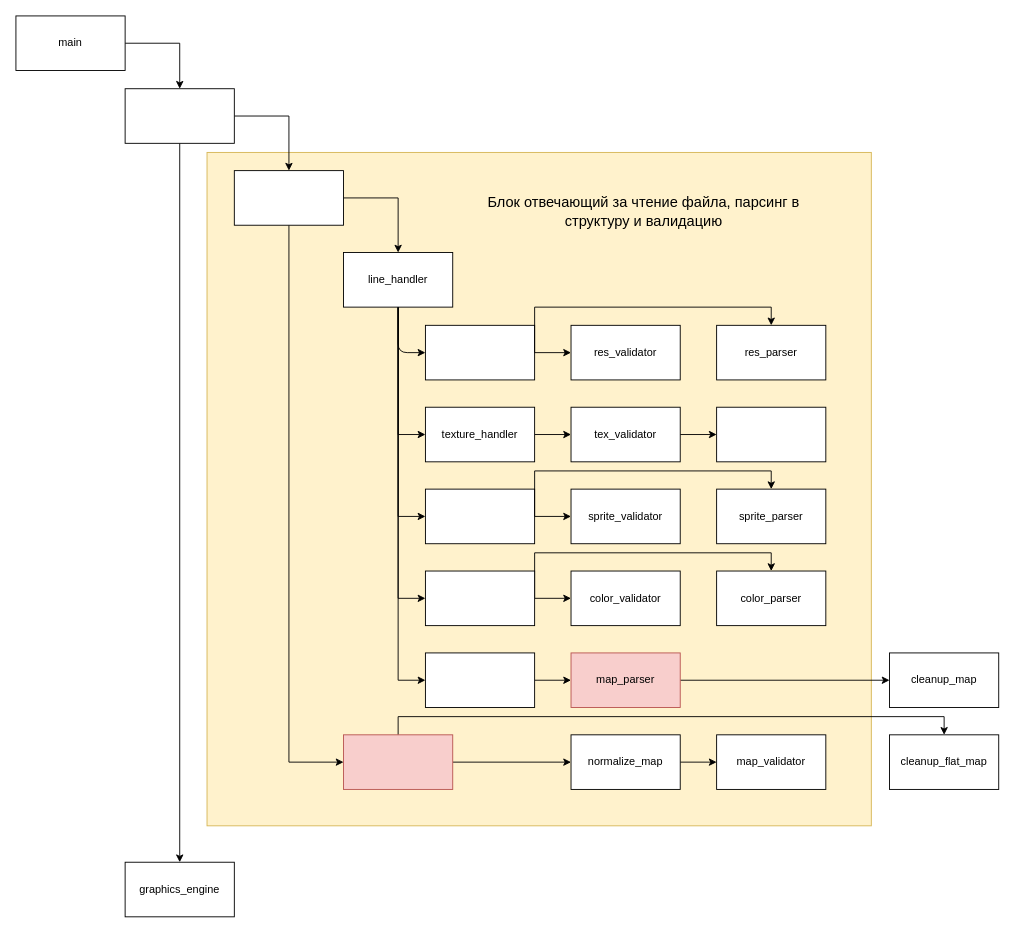
This 1015x933 diagram has some shape labels left out. The centre of each missing label's shape, as x and y in pixels:
"color_handler" belongs at (480,598).
"convert_map" belongs at (398,761).
"map_handler" belongs at (480,680).
"read_config" belongs at (288,197).
"res_handler" belongs at (480,352).
"sprite_handler" belongs at (480,516).
"start_cub3d" belongs at (179,115).
"tex_parser" belongs at (771,434).
